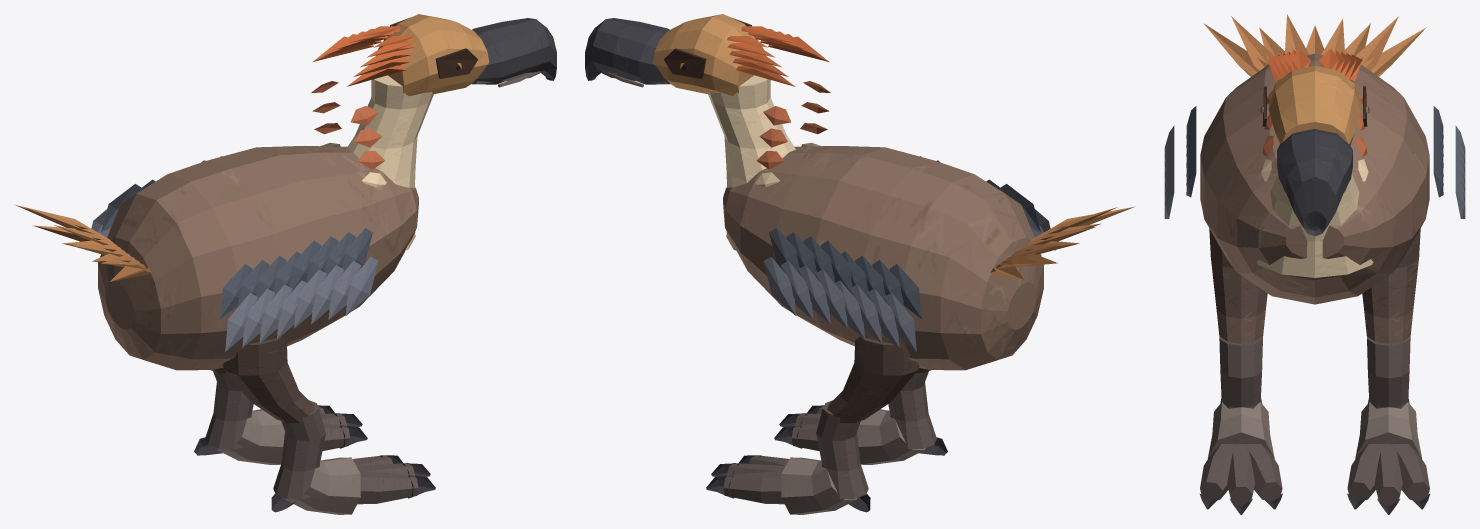
Rendered from dodarro_selvagem_v01_blockout.glb.
3 views of the same model, side by side, from view 1: azimuth 30°, elevation 25°; view 2: azimuth 150°, elevation 25°; view 3: azimuth 270°, elevation 25° (orthographic). The views are drawn at different scales.
Visible parts, largest first — view 1: dodarro_selvagem; view 2: dodarro_selvagem; view 3: dodarro_selvagem.
Part boxes in pixels (<box>): dodarro_selvagem: <box>14,14,556,514</box>; dodarro_selvagem: <box>585,14,1133,514</box>; dodarro_selvagem: <box>1164,14,1465,514</box>.
Size of the model in its own units: 3.09 by 2.65 by 1.51.
Materials: 1 (1 with a texture image).
